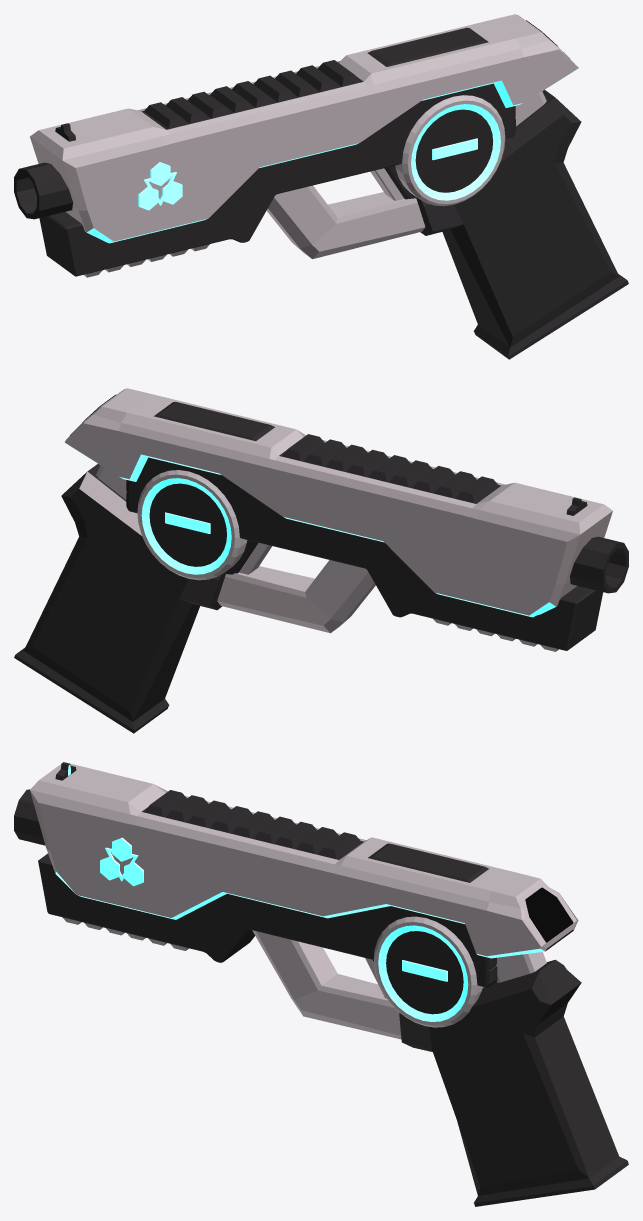
File: Pistol.fbx
The picture shows the model from 3 angles, top to bottom: view 1: azimuth 30°, elevation 25°; view 2: azimuth 150°, elevation 25°; view 3: azimuth 330°, elevation 25°; orthographic projection.
Parts seen in each view (by area): view 1: pistol_base.001, pistol_top.001, pistol_magazine.001, pistol_base.003; view 2: pistol_base.001, pistol_top.001, pistol_magazine.001, pistol_base.003; view 3: pistol_base.001, pistol_top.001, pistol_magazine.001.
Part boxes in pixels (x1=…): pistol_base.001: x1=39, y1=83, x2=627, y2=356; pistol_top.001: x1=14, y1=14, x2=578, y2=243; pistol_magazine.001: x1=474, y1=281, x2=628, y2=359; pistol_base.003: x1=432, y1=138, x2=477, y2=160; pistol_base.001: x1=15, y1=457, x2=603, y2=730; pistol_top.001: x1=65, y1=388, x2=628, y2=617; pistol_magazine.001: x1=14, y1=648, x2=168, y2=733; pistol_base.003: x1=165, y1=512, x2=210, y2=533; pistol_base.001: x1=38, y1=853, x2=627, y2=1203; pistol_top.001: x1=14, y1=762, x2=578, y2=958; pistol_magazine.001: x1=474, y1=1161, x2=628, y2=1206.
Size of the model in its own units: 2345 by 1250 by 267.
